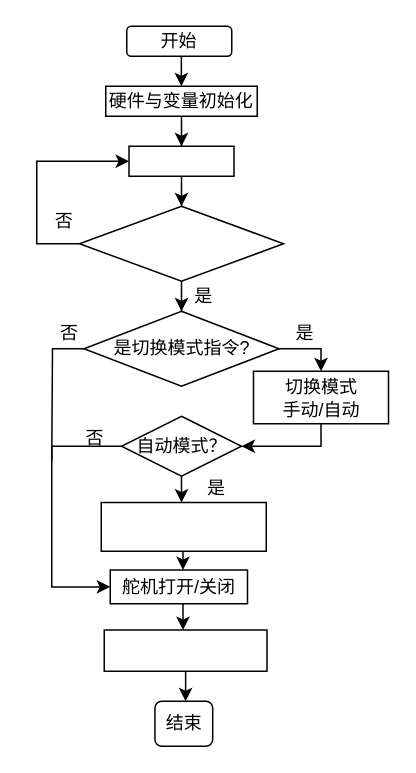
Image size: 416x773. Some labels were removed from this diagram. Here are the shapes that lost their labels. From the top down, the centre of each, then its label:
(181,160): 数据采集
(181,243): 有按键或蓝牙指令?
(183,526): 人体红外/ 光强>设定阈值
(185,649): 刷新 OLED 状态显示
